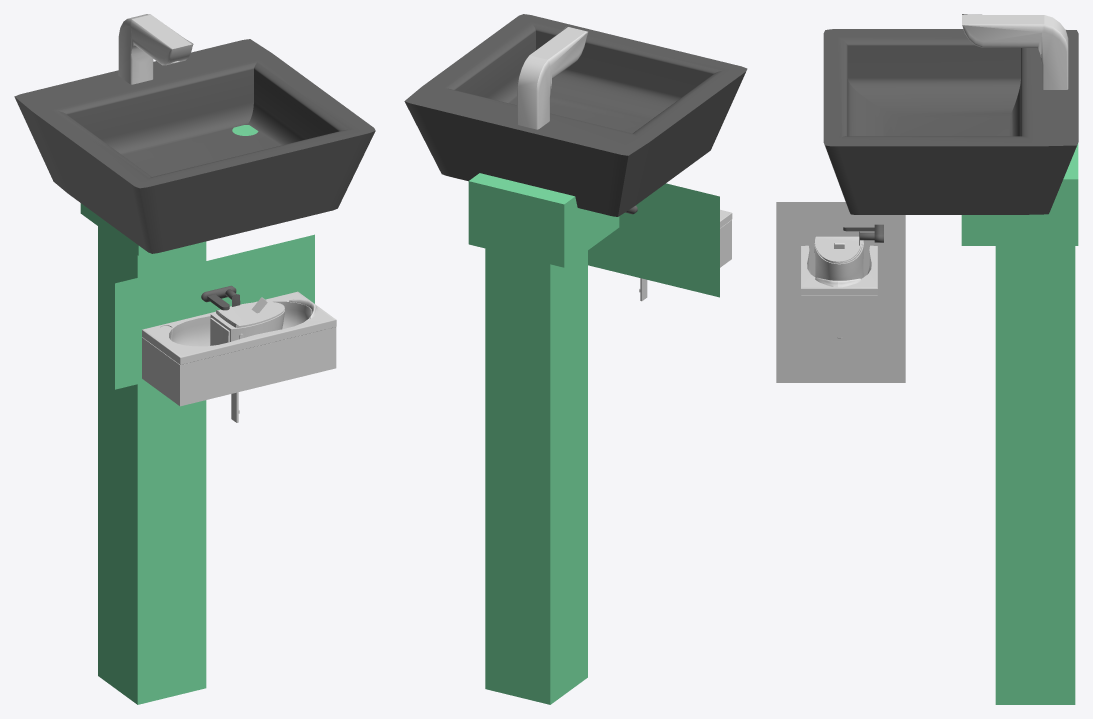
File: sink.gltf
The picture shows the model from 3 angles, left to right: view 1: azimuth 30°, elevation 25°; view 2: azimuth 150°, elevation 25°; view 3: azimuth 270°, elevation 25°; orthographic projection. The views are drawn at different scales.
Visible parts, largest first — view 1: Cube.003, Cube, Plane, Cylinder, Cylinder.003; view 2: Cube.003, Plane, Cube; view 3: Cube.003, Plane.001, Cube, Cylinder, Cylinder.003.
Boxes of the visible parts, x1,y1,x2,y2 form: Cube.003: [14, 14, 375, 704]; Cube: [142, 291, 336, 406]; Plane: [115, 234, 314, 389]; Cylinder: [210, 310, 284, 345]; Cylinder.003: [216, 301, 284, 326]; Cube.003: [404, 14, 747, 704]; Plane: [588, 183, 719, 297]; Cube: [720, 209, 732, 267]; Cube.003: [823, 14, 1078, 704]; Plane.001: [776, 202, 905, 382]; Cube: [801, 245, 877, 337]; Cylinder: [814, 240, 863, 280]; Cylinder.003: [814, 236, 861, 262].
Bounding box in the file's own units: 20.88 × 55.25 × 22.74.
